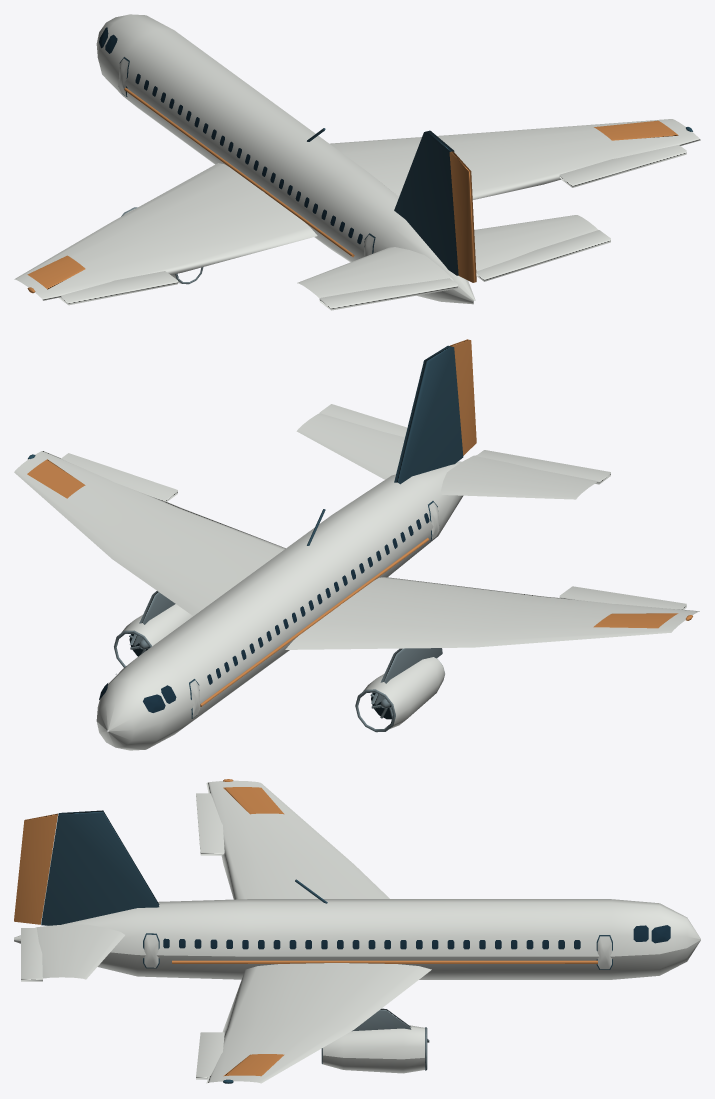
The model's file is player-stratoliner-mobile-v1.glb.
3 renders of one model, top to bottom at view 1: azimuth 30°, elevation 25°; view 2: azimuth 150°, elevation 25°; view 3: azimuth 270°, elevation 25°, orthographic. The views are drawn at different scales.
Visible parts, largest first — view 1: hull, trim, accent, rudder, elevator-right, aileron-right, elevator-left, aileron-left, cabin; view 2: hull, trim, accent, metal, rudder, cabin, aileron-right, elevator-left, aileron-left, elevator-right; view 3: hull, trim, accent, rudder, cabin, aileron-left, elevator-right, aileron-right, metal.
Part boxes in pixels (bbox=[...]): hull: bbox=[14, 14, 700, 304]; trim: bbox=[119, 57, 458, 275]; accent: bbox=[27, 87, 678, 293]; rudder: bbox=[449, 151, 476, 282]; elevator-right: bbox=[476, 230, 610, 281]; aileron-right: bbox=[559, 145, 686, 187]; elevator-left: bbox=[319, 278, 457, 310]; aileron-left: bbox=[58, 271, 177, 305]; cabin: bbox=[99, 27, 362, 244]; hull: bbox=[14, 413, 699, 750]; trim: bbox=[189, 345, 463, 718]; accent: bbox=[27, 459, 692, 706]; metal: bbox=[114, 591, 444, 732]; rudder: bbox=[450, 339, 476, 455]; cabin: bbox=[99, 513, 429, 712]; aileron-right: bbox=[61, 453, 177, 501]; elevator-left: bbox=[476, 450, 610, 484]; aileron-left: bbox=[559, 586, 686, 609]; elevator-right: bbox=[319, 404, 407, 437]; hull: bbox=[14, 780, 700, 1083]; trim: bbox=[41, 810, 612, 969]; accent: bbox=[172, 779, 597, 1076]; rudder: bbox=[14, 813, 57, 924]; cabin: bbox=[163, 925, 670, 949]; aileron-left: bbox=[196, 793, 224, 855]; elevator-right: bbox=[21, 928, 42, 981]; aileron-right: bbox=[196, 1032, 224, 1079]; metal: bbox=[321, 1008, 429, 1070].
Size of the model in its own units: 59.46 by 18.7 by 57.
